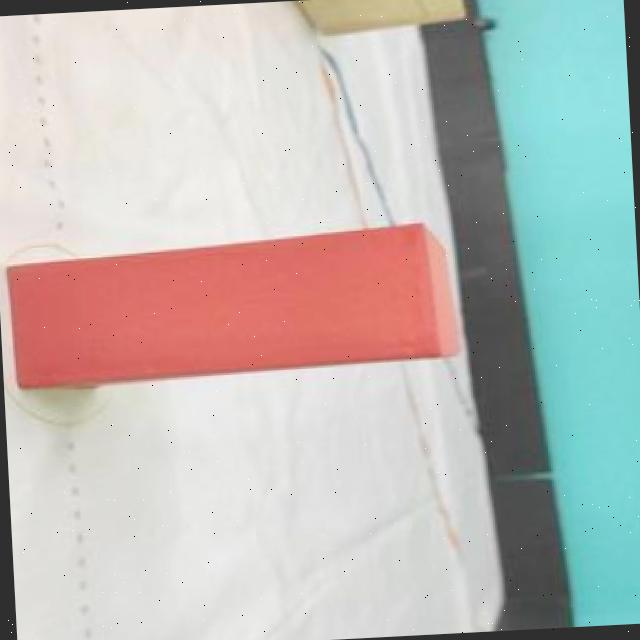redbox: (0, 221, 459, 396)
